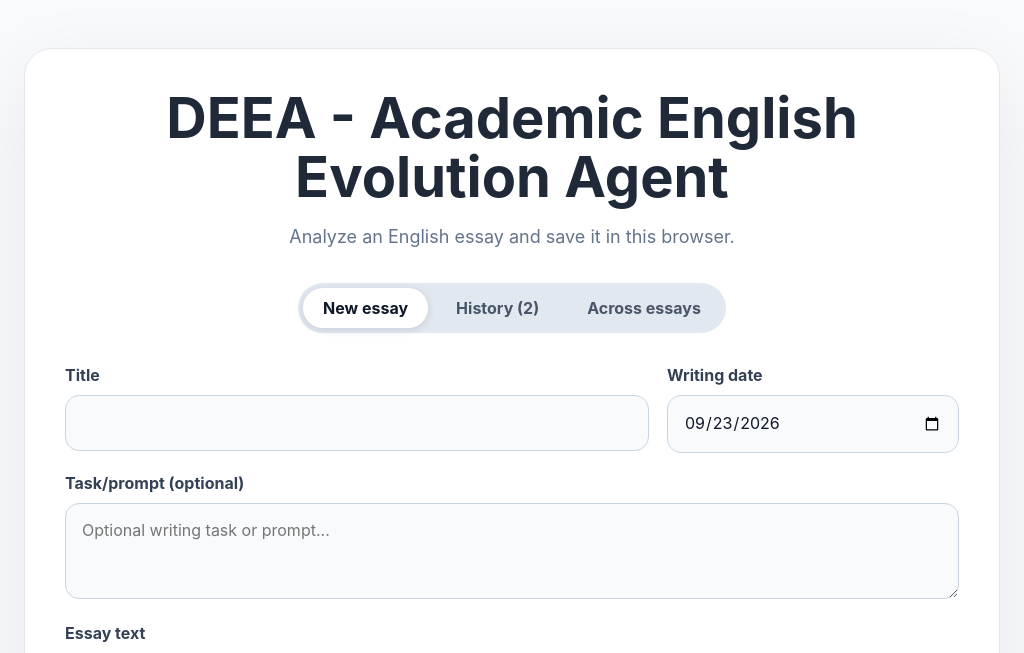
Test: essay deletion confirmation › keeps the record after Cancel and a refresh
What coordinates should you click on to do the following:
click the button "History (2)"
I would click on:
 (498, 308)
Its box is [436,288,559,328].
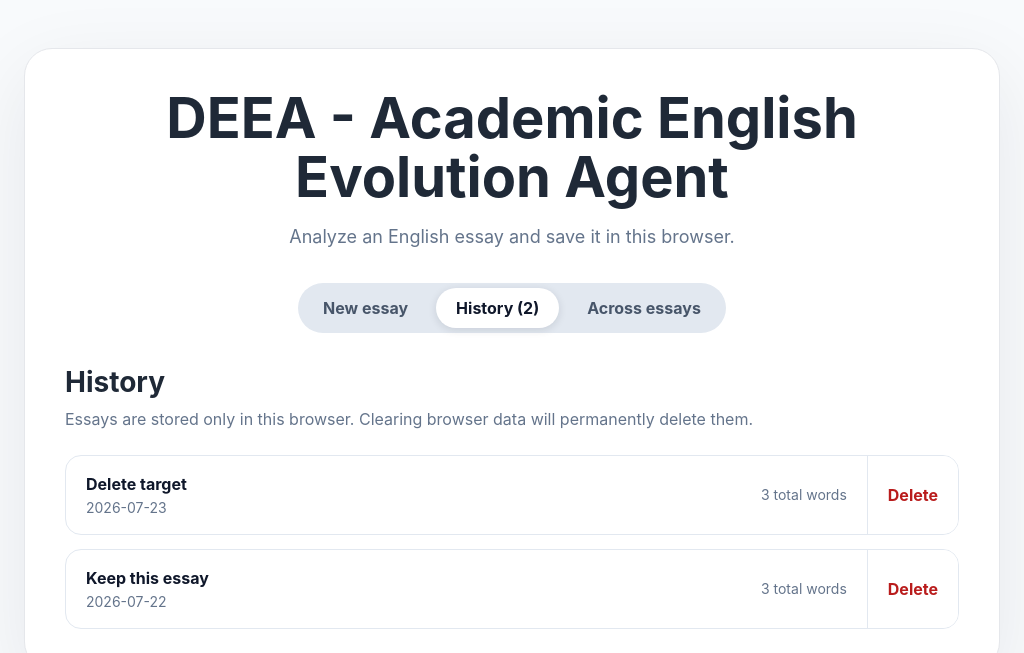
Now the 1st button with class "delete-button" is shown
What coordinates should you click on to do the following:
click the 1st button with class "delete-button"
I would click on:
 (912, 495)
Its box is [867,456,958,534].
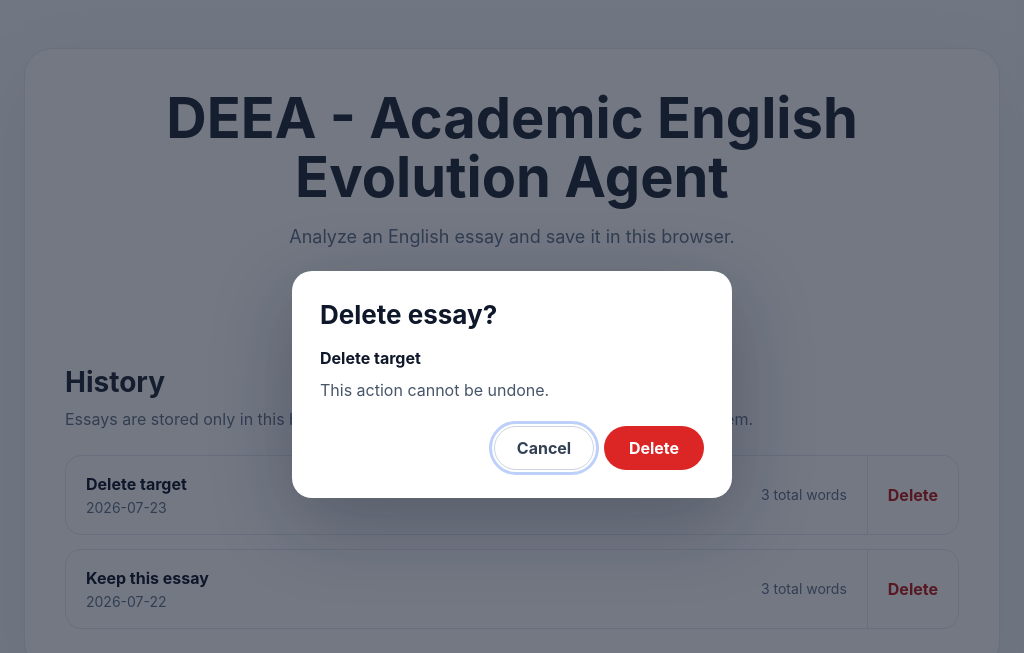
Now the dialog is shown, box [292,270,732,498]
Now the button "Cancel" is shown
What coordinates should you click on to do the following:
click the button "Cancel"
I would click on:
 (544, 448)
Its box is [494,426,594,470].
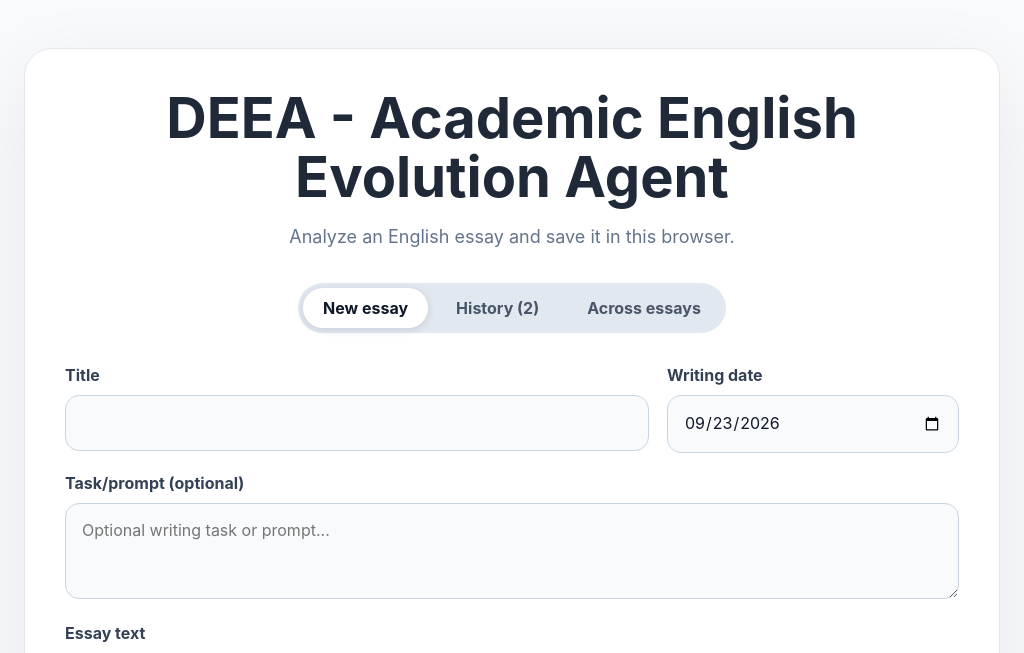
Now the dialog is gone
What coordinates should you click on to do the following:
click the button "History (2)"
I would click on:
 (498, 308)
Its box is [436,288,559,328].
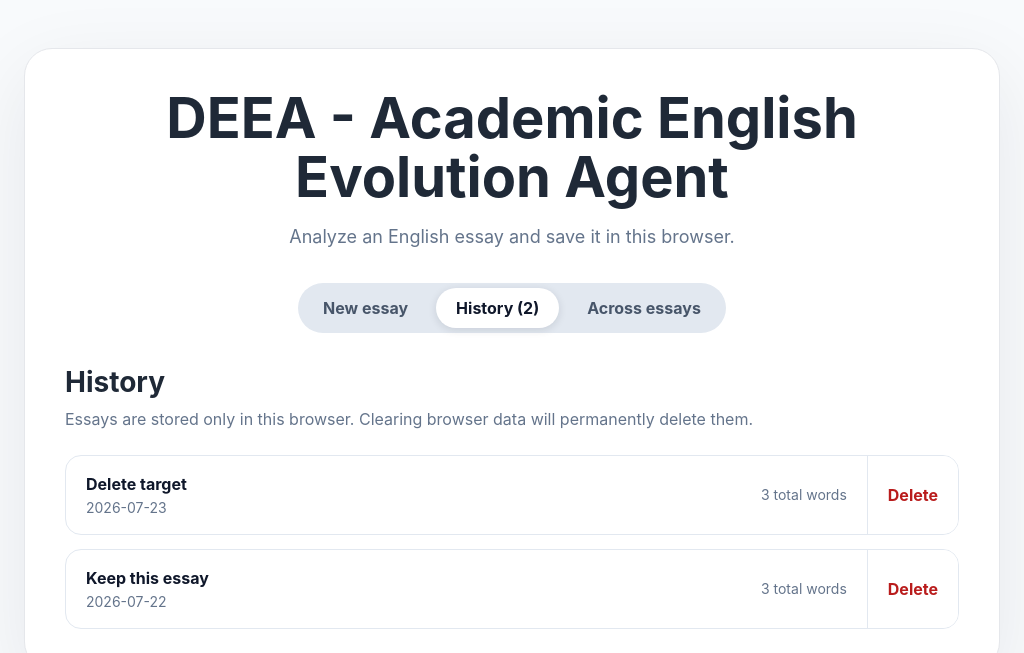
Now the text "Delete target" is shown, box [86,474,187,494]
Now the text "Keep this essay" is shown, box [86,568,209,588]
